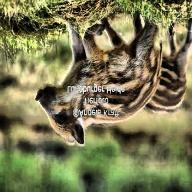boar: (35, 6, 152, 153), (141, 31, 192, 116)
